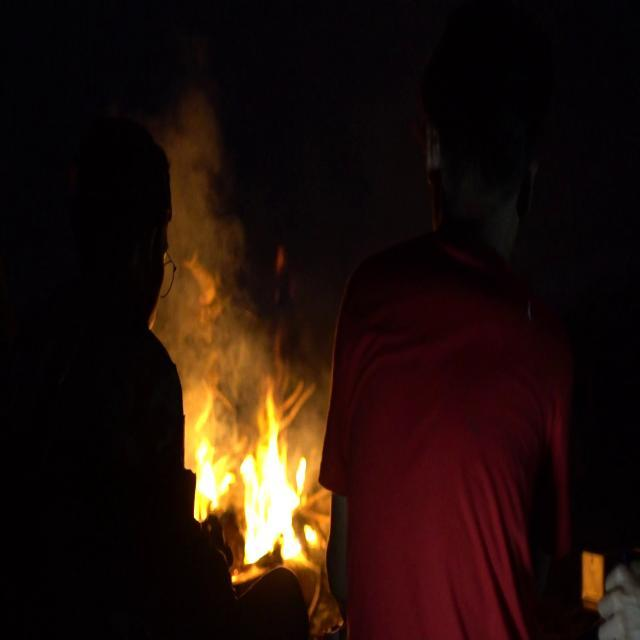Fire: (195, 387, 332, 592)
Smoke: (138, 45, 272, 340)
